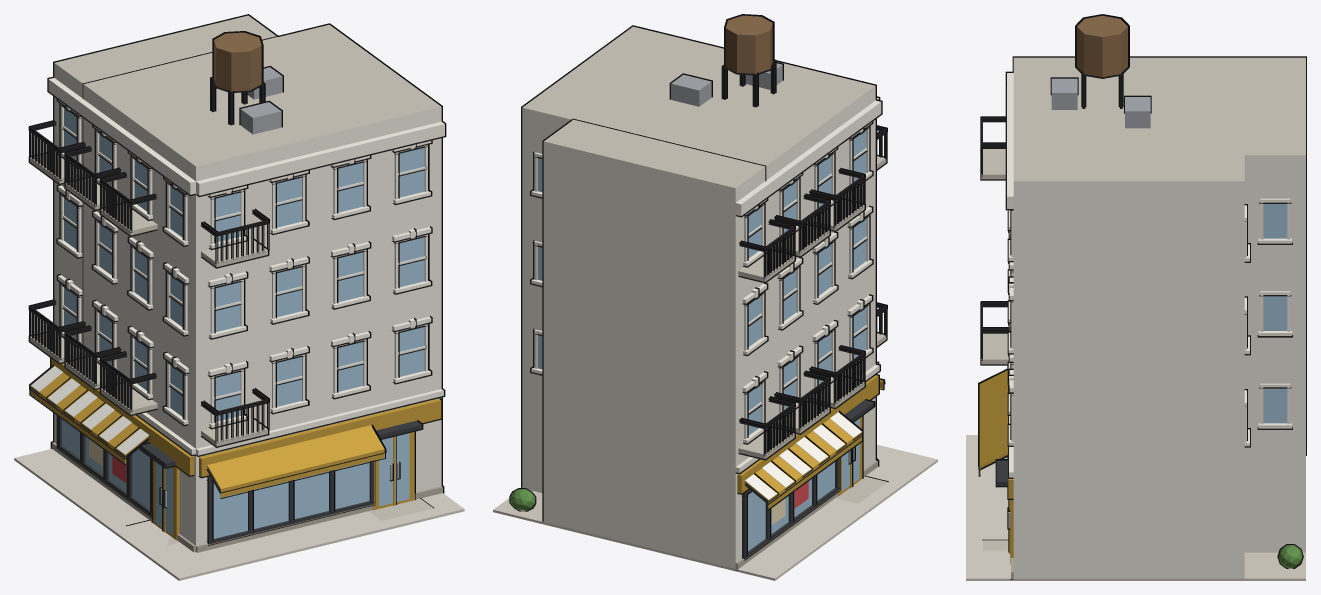
File: Blok_kose_4k_2.fbx
The picture shows the model from 3 angles, left to right: view 1: azimuth 30°, elevation 25°; view 2: azimuth 150°, elevation 25°; view 3: azimuth 270°, elevation 25°; orthographic projection. The views are drawn at different scales.
Visible parts, largest first — view 1: Blok_kose_4k_2; view 2: Blok_kose_4k_2; view 3: Blok_kose_4k_2.
Part boxes in pixels (bbox=[...]): Blok_kose_4k_2: bbox=[14, 14, 464, 580]; Blok_kose_4k_2: bbox=[493, 14, 937, 580]; Blok_kose_4k_2: bbox=[966, 14, 1306, 580].
Size of the model in its own units: 10.03 by 15.48 by 10.03.
